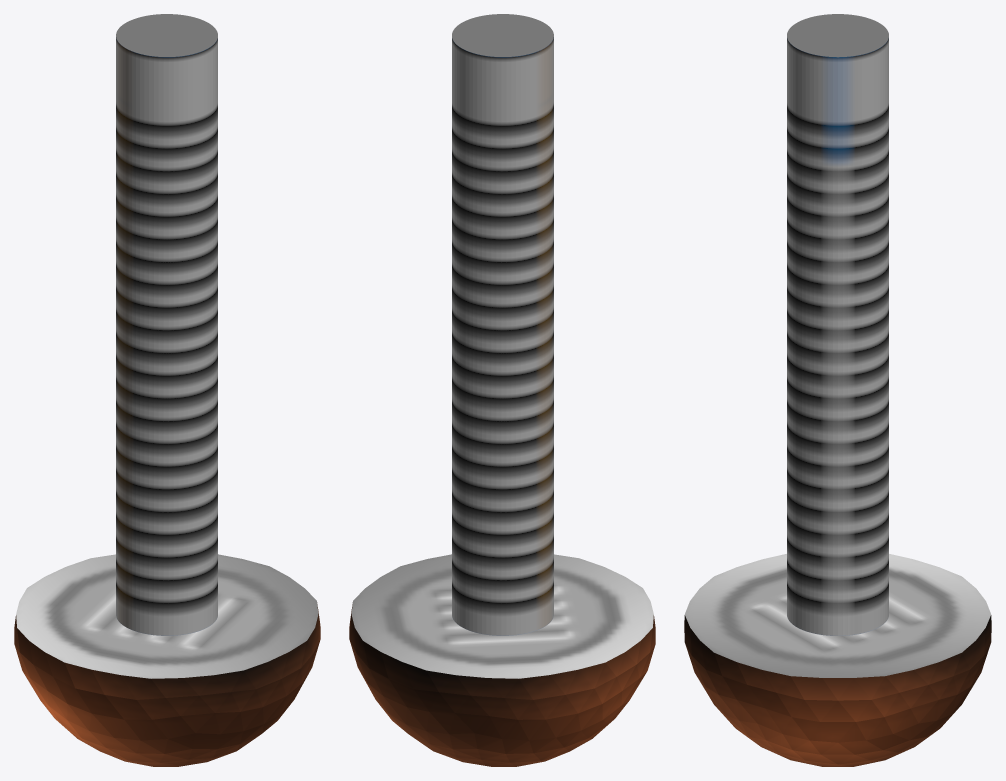
File: destroy2.obj
The picture shows the model from 3 angles, left to right: view 1: azimuth 30°, elevation 25°; view 2: azimuth 150°, elevation 25°; view 3: azimuth 270°, elevation 25°; orthographic projection.
Visible parts, largest first — view 1: Pchnij_Cylinder, Zmiażdż_ColobotMesh_; view 2: Pchnij_Cylinder, Zmiażdż_ColobotMesh_; view 3: Pchnij_Cylinder, Zmiażdż_ColobotMesh_.
Part boxes in pixels (box(x1,y1,x2,y2)): Pchnij_Cylinder: box(116, 14, 217, 635); Zmiażdż_ColobotMesh_: box(14, 554, 320, 766); Pchnij_Cylinder: box(452, 14, 553, 635); Zmiażdż_ColobotMesh_: box(349, 554, 655, 766); Pchnij_Cylinder: box(787, 14, 888, 635); Zmiażdż_ColobotMesh_: box(684, 554, 991, 766).
Bounding box in the file's own units: 12.07 × 31 × 12.03.
